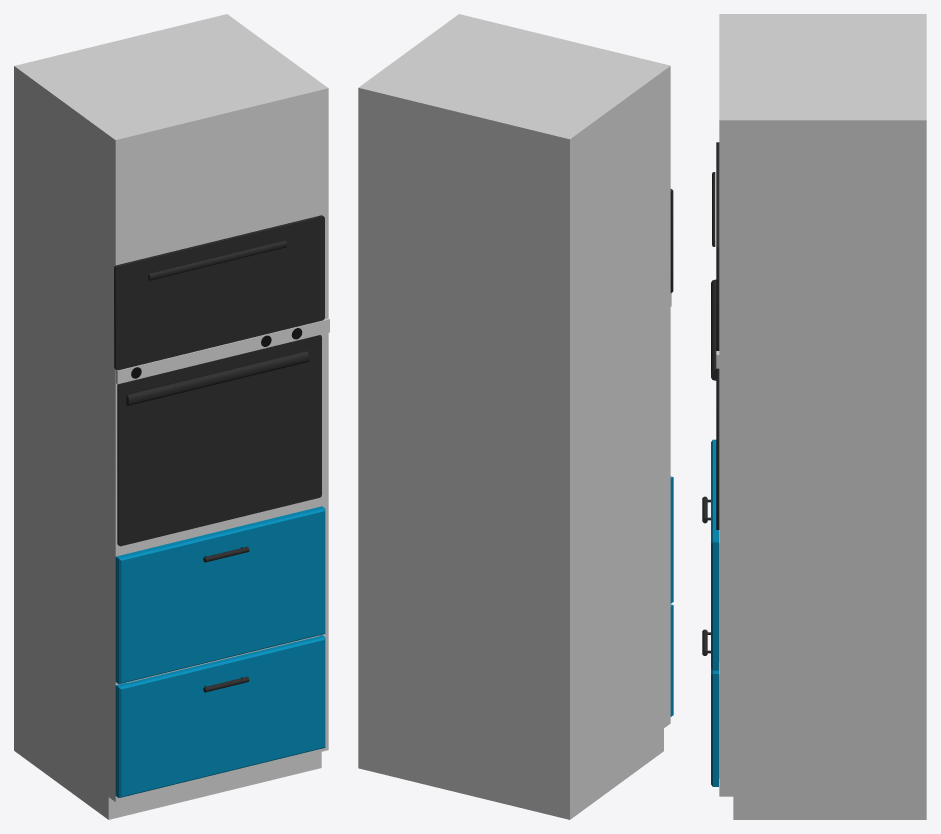
File: Kitchen_Oven.fbx
3 views of the same model, side by side, from view 1: azimuth 30°, elevation 25°; view 2: azimuth 150°, elevation 25°; view 3: azimuth 270°, elevation 25° (orthographic). The views are drawn at different scales.
Visible parts, largest first — view 1: Shelves, Door_02, Drawer_13, Drawer_14, Door_03; view 2: Shelves; view 3: Shelves, Drawer_13, Door_02, Drawer_14, Door_03.
Boxes of the visible parts, x1,y1,x2,y2 form: Shelves: [14, 14, 329, 819]; Door_02: [117, 335, 321, 546]; Drawer_13: [115, 506, 325, 683]; Drawer_14: [115, 635, 325, 797]; Door_03: [114, 215, 324, 370]; Shelves: [358, 14, 671, 819]; Shelves: [716, 14, 926, 819]; Drawer_13: [702, 439, 719, 670]; Door_02: [711, 279, 719, 529]; Drawer_14: [702, 629, 719, 786]; Door_03: [712, 142, 719, 350].
Bounding box in the file's own units: 0.704 × 2.15 × 0.624.
